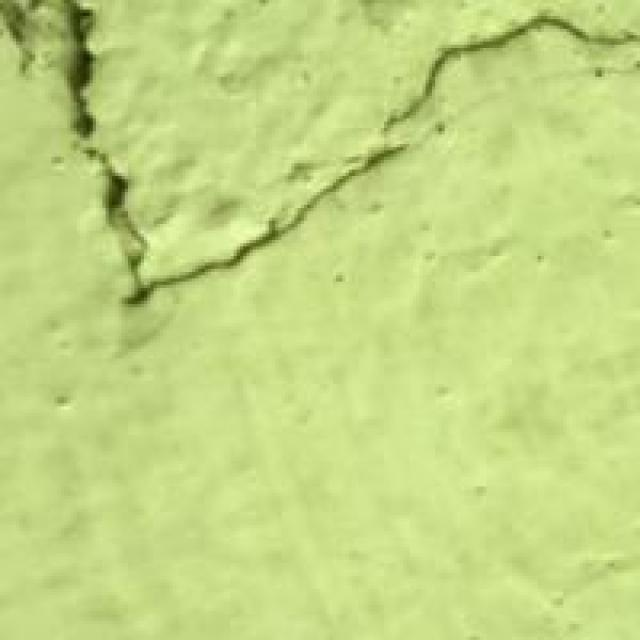Crack: (41, 0, 464, 342)
